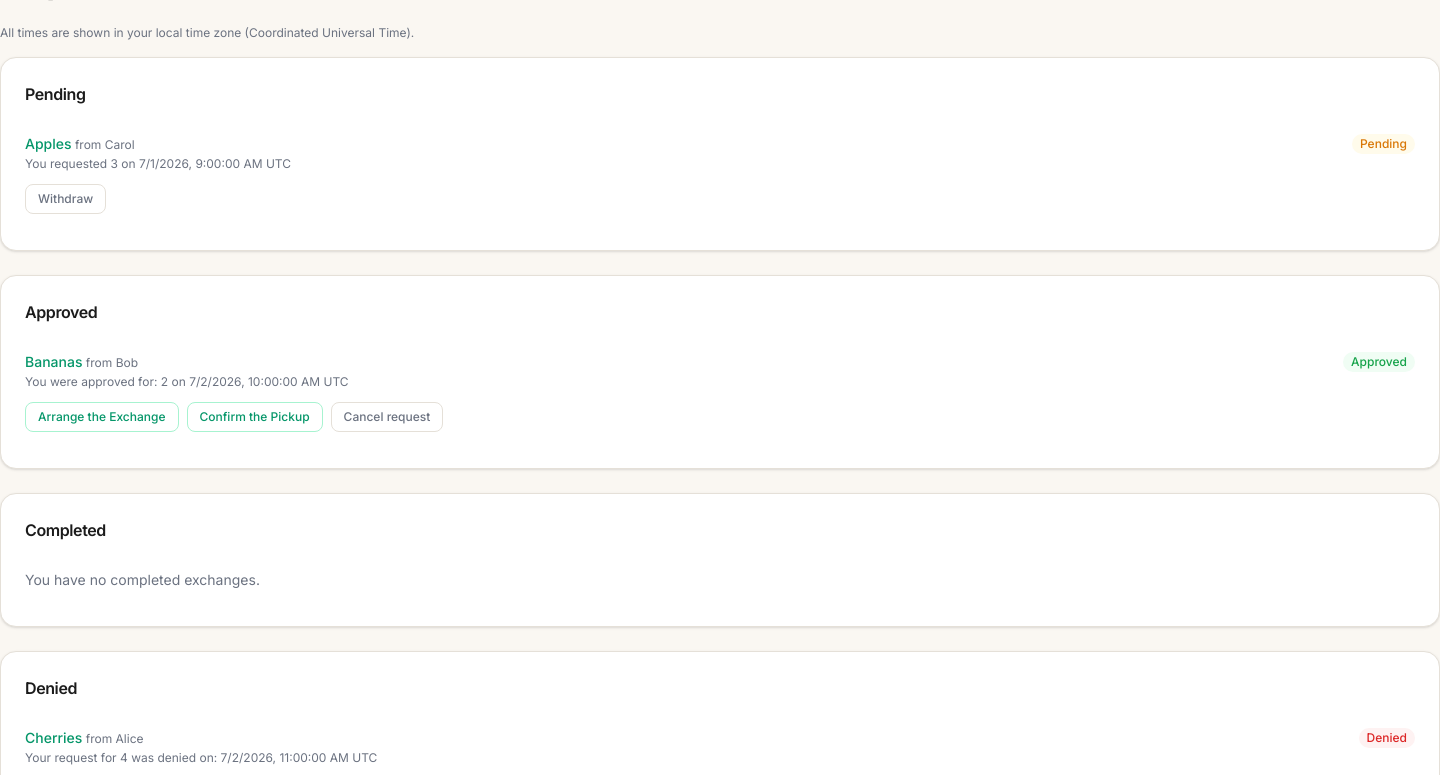
Scenario: clicking Cancel refreshes in place and moves the request to Withdrawn
This screenshot has width=1440, height=775.
What coordinates should you click on to do the following:
click the button "Cancel request"
I would click on:
 (387, 417)
Its box is [331, 402, 443, 432].
(page scrolled)
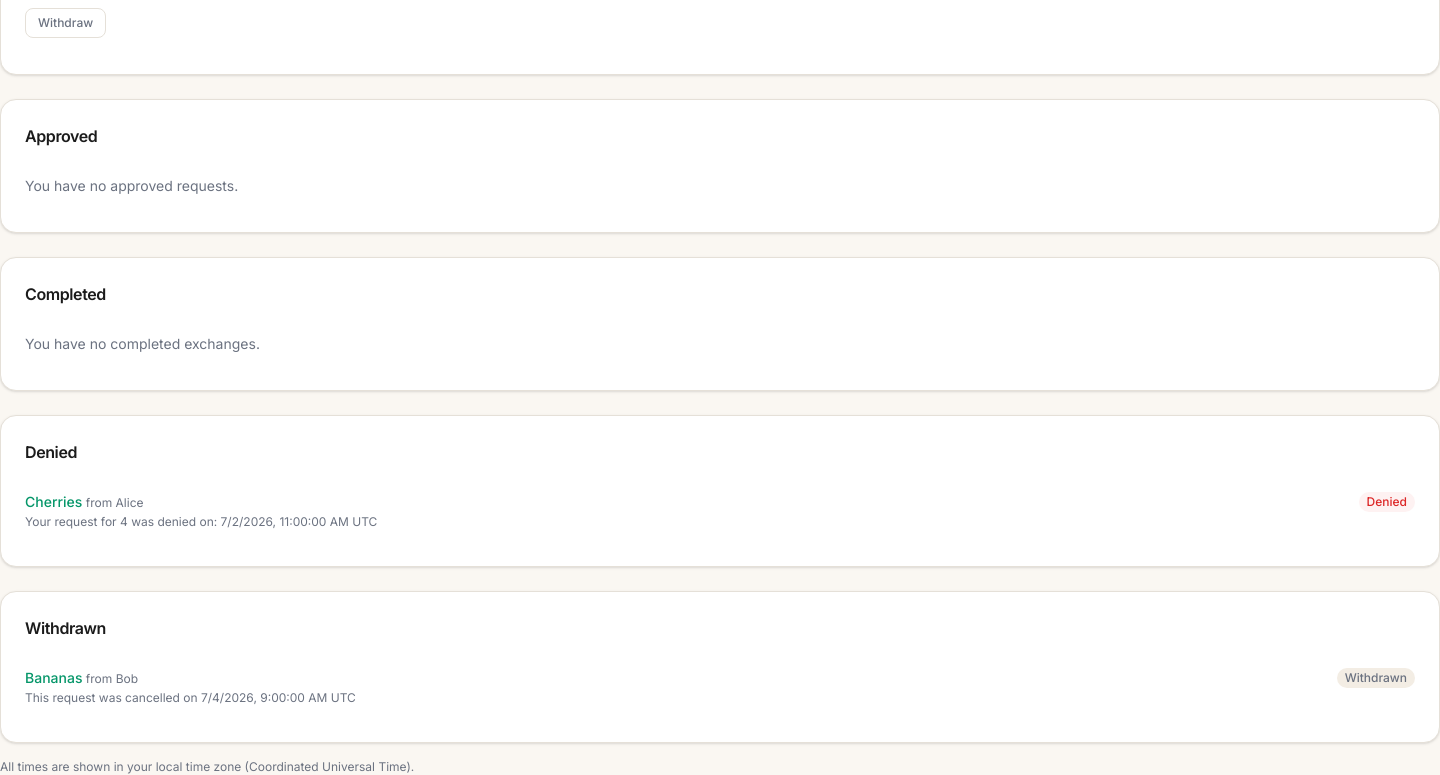
expect the heading "Withdrawn" is shown: met, box [25, 618, 106, 638]
expect the text "You have no approved requests." is shown: met, box [25, 177, 238, 194]
expect the text "This request was cancelled on 7/4/2026, 9:00:00 AM UTC" is shown: met, box [25, 690, 356, 706]
